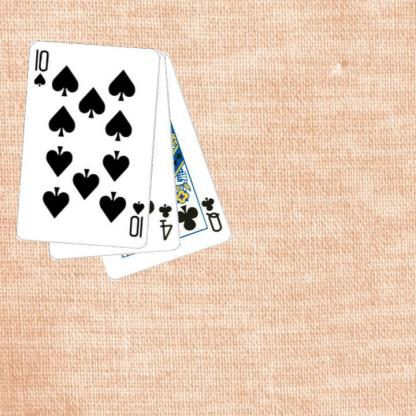10S: (31, 47, 51, 88), (127, 199, 146, 239)
4C: (156, 202, 174, 242)
QC: (199, 194, 224, 234)
